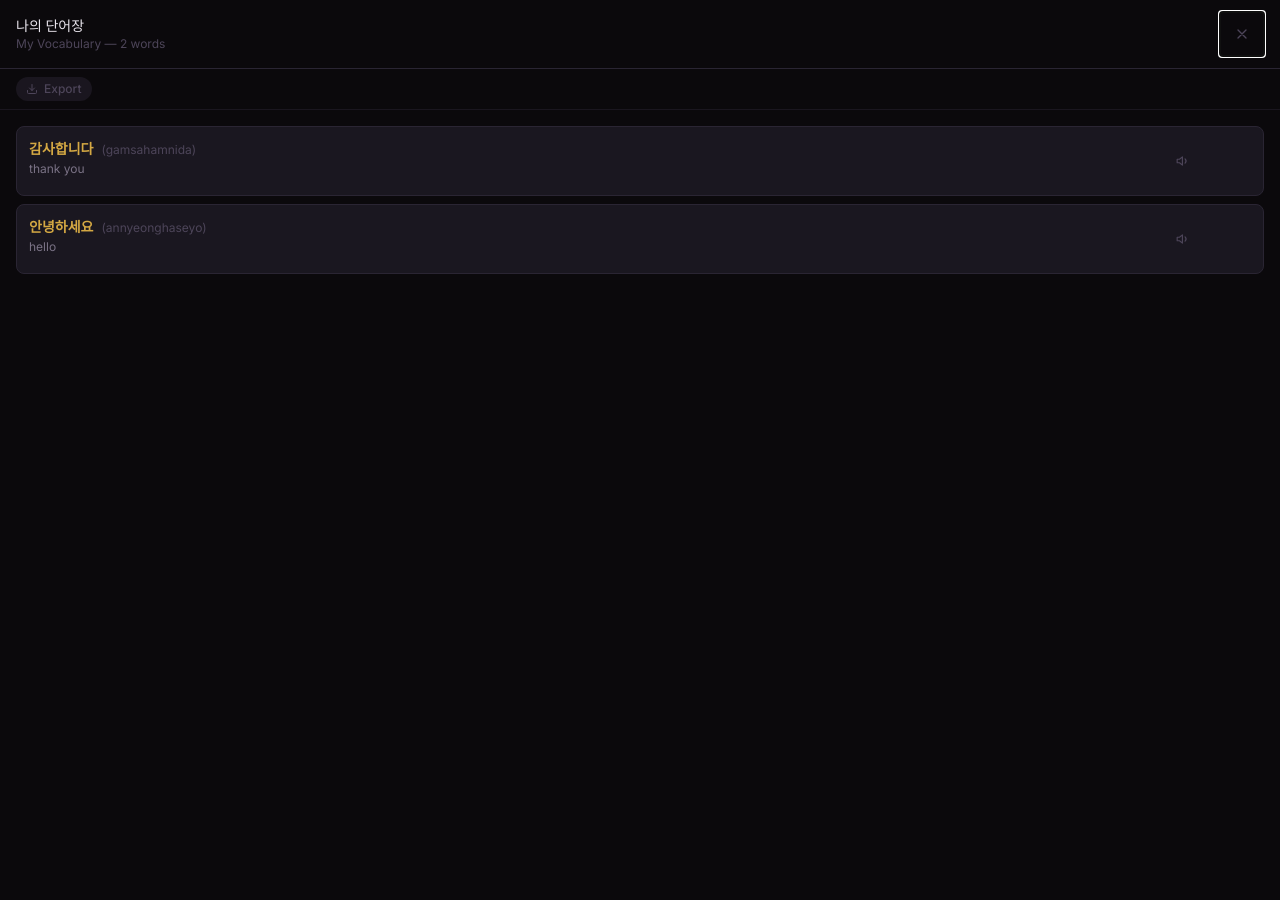
Test case: VocabularyPanel › shows stop label when word is being spoken
Click the button named "Listen to 안녕하세요": (1183, 239) top-left (1161, 217), bottom-right (1205, 261)
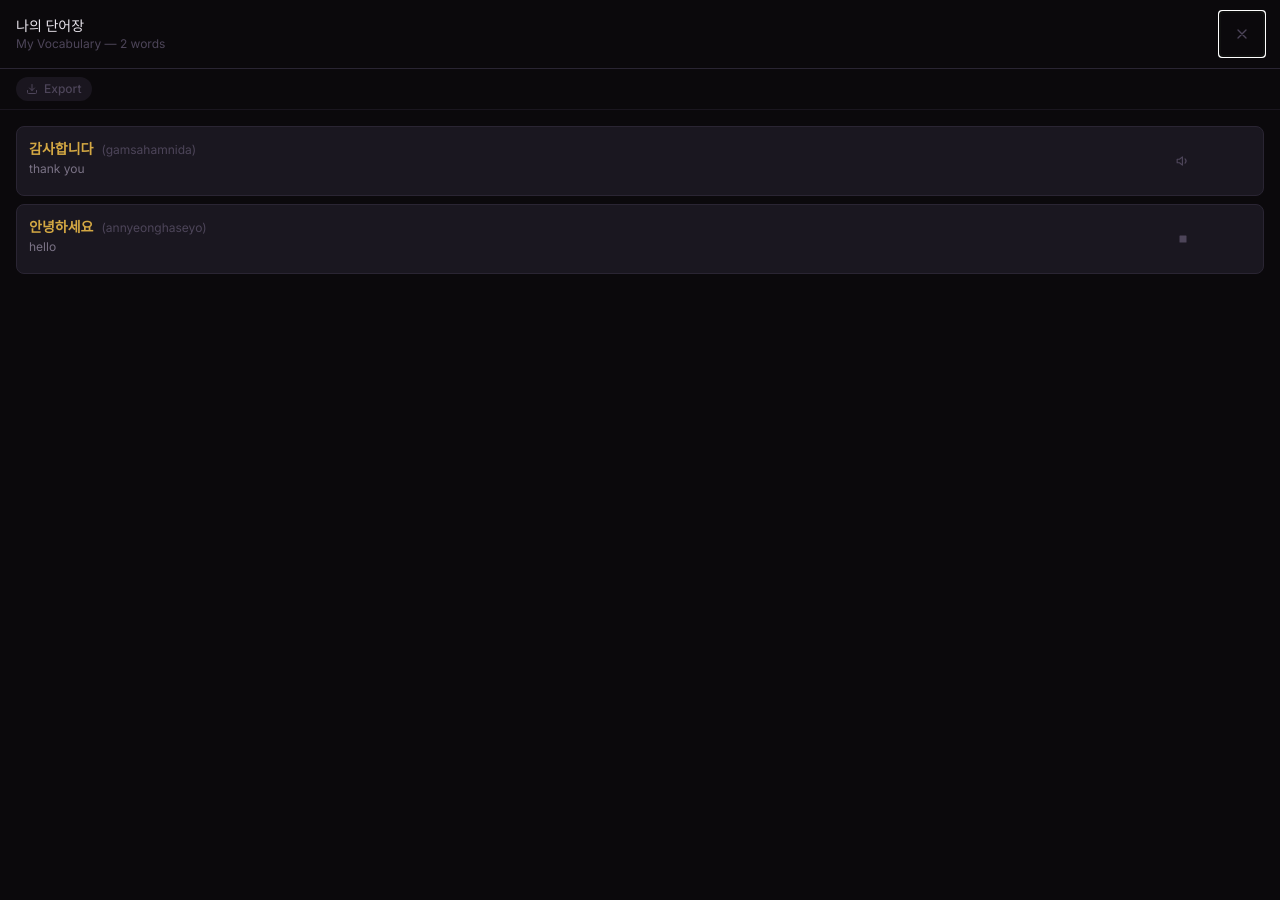
Check: the button named "Stop listening to 안녕하세요" is shown, box top-left (1161, 217), bottom-right (1205, 261)
